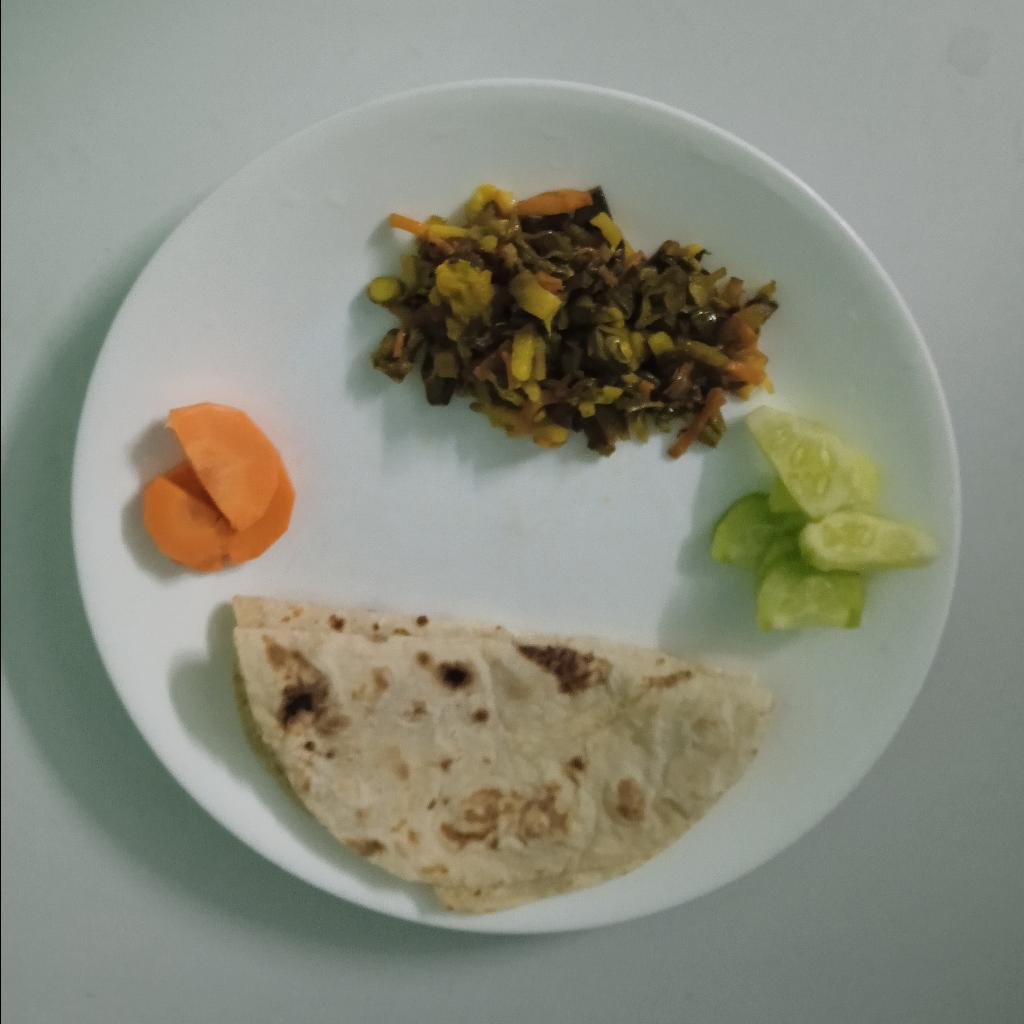carrot: (135, 398, 302, 567)
cucumber: (707, 406, 942, 627)
ruti: (232, 600, 782, 907)
shak: (371, 187, 784, 463)
